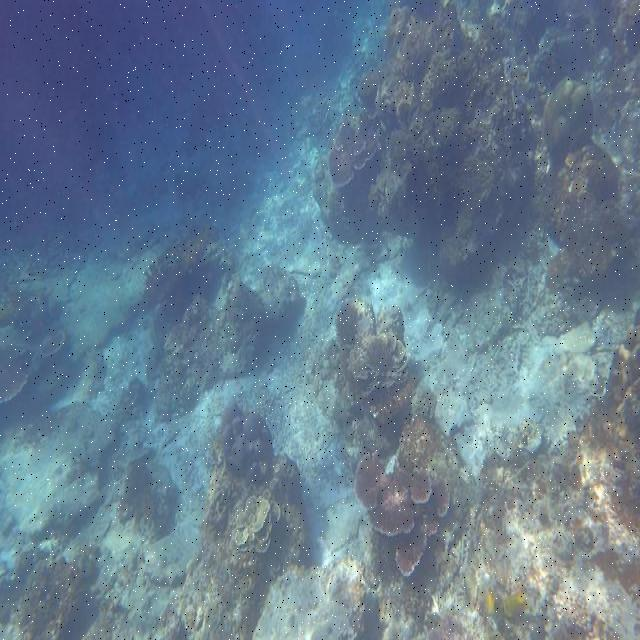reefs: (308, 0, 557, 275), (158, 399, 312, 639), (318, 296, 409, 405)
